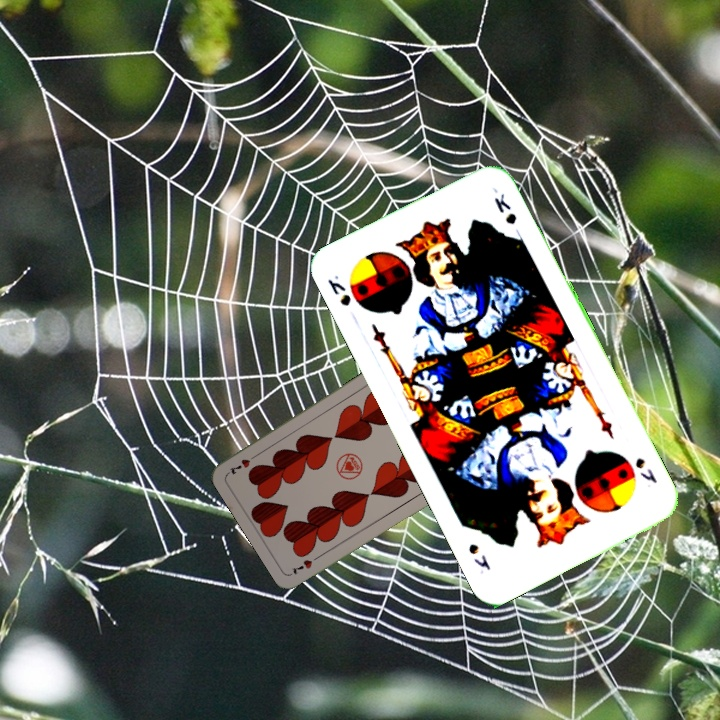H7: (287, 551, 324, 577)
SK: (323, 271, 354, 309), (631, 453, 660, 486)
